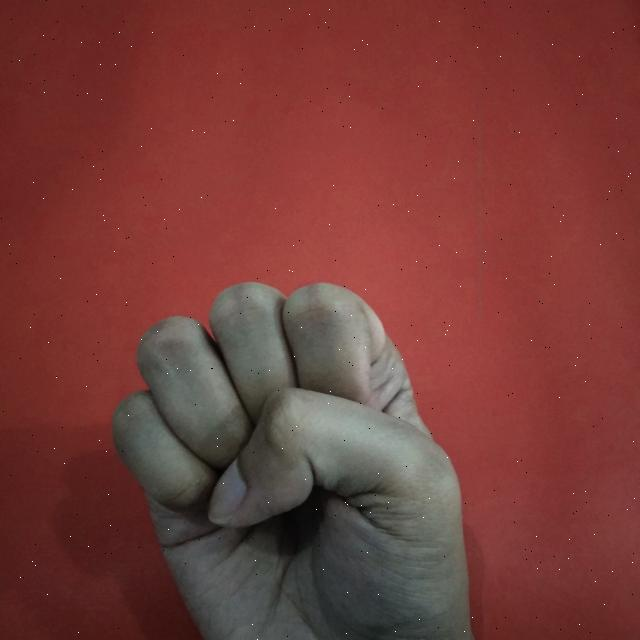S: (99, 274, 479, 640)
